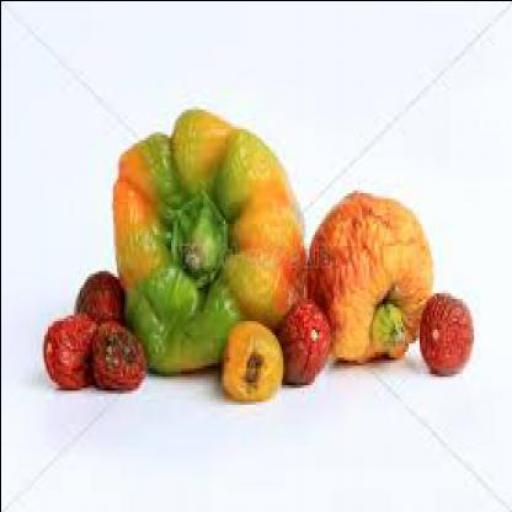biodegradable: (108, 106, 306, 370), (305, 186, 430, 362), (216, 317, 282, 396), (275, 292, 327, 384), (39, 309, 95, 389), (416, 292, 470, 373), (87, 320, 144, 386), (71, 264, 121, 323)
